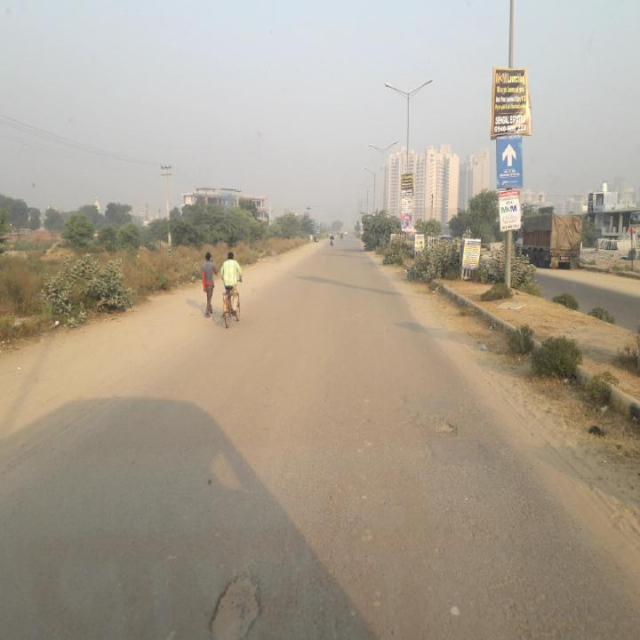D40: (194, 540, 290, 638), (409, 410, 469, 450)
